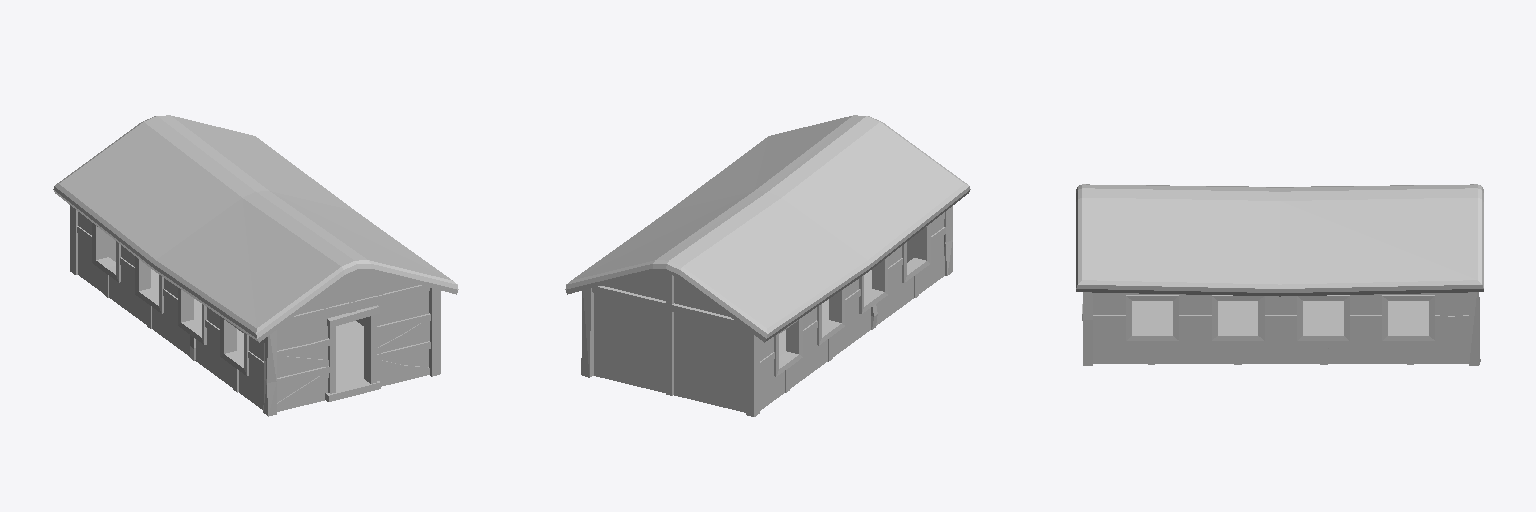
File: workshop2.obj
3 views of the same model, side by side, from view 1: azimuth 30°, elevation 25°; view 2: azimuth 150°, elevation 25°; view 3: azimuth 270°, elevation 25° (orthographic).
Parts seen in each view (by area): view 1: Medieval_barn_Куб.001; view 2: Medieval_barn_Куб.001; view 3: Medieval_barn_Куб.001.
Boxes of the visible parts, x1=… form: Medieval_barn_Куб.001: x1=53, y1=115, x2=458, y2=416; Medieval_barn_Куб.001: x1=565, y1=115, x2=970, y2=416; Medieval_barn_Куб.001: x1=1076, y1=184, x2=1483, y2=365.
Bounding box in the file's own units: 6.65 × 4.18 × 11.43.